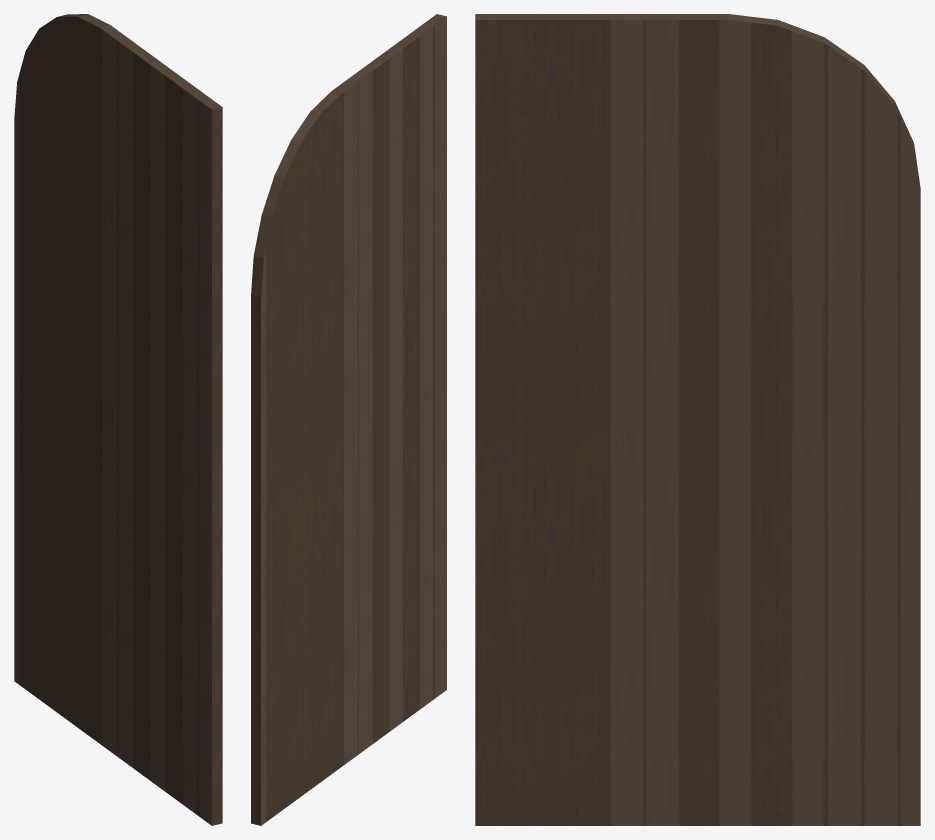
The model's file is SD_Door_2.fbx.
3 views of the same model, side by side, from view 1: azimuth 30°, elevation 25°; view 2: azimuth 150°, elevation 25°; view 3: azimuth 270°, elevation 25° (orthographic). The views are drawn at different scales.
Visible parts, largest first — view 1: SD_Door_2; view 2: SD_Door_2; view 3: SD_Door_2.
Part boxes in pixels (left/top/right/bottom): SD_Door_2: left=14, top=14, right=222, bottom=825; SD_Door_2: left=251, top=14, right=446, bottom=825; SD_Door_2: left=475, top=14, right=920, bottom=825.
Size of the model in its own units: 3.13 by 100 by 200.
